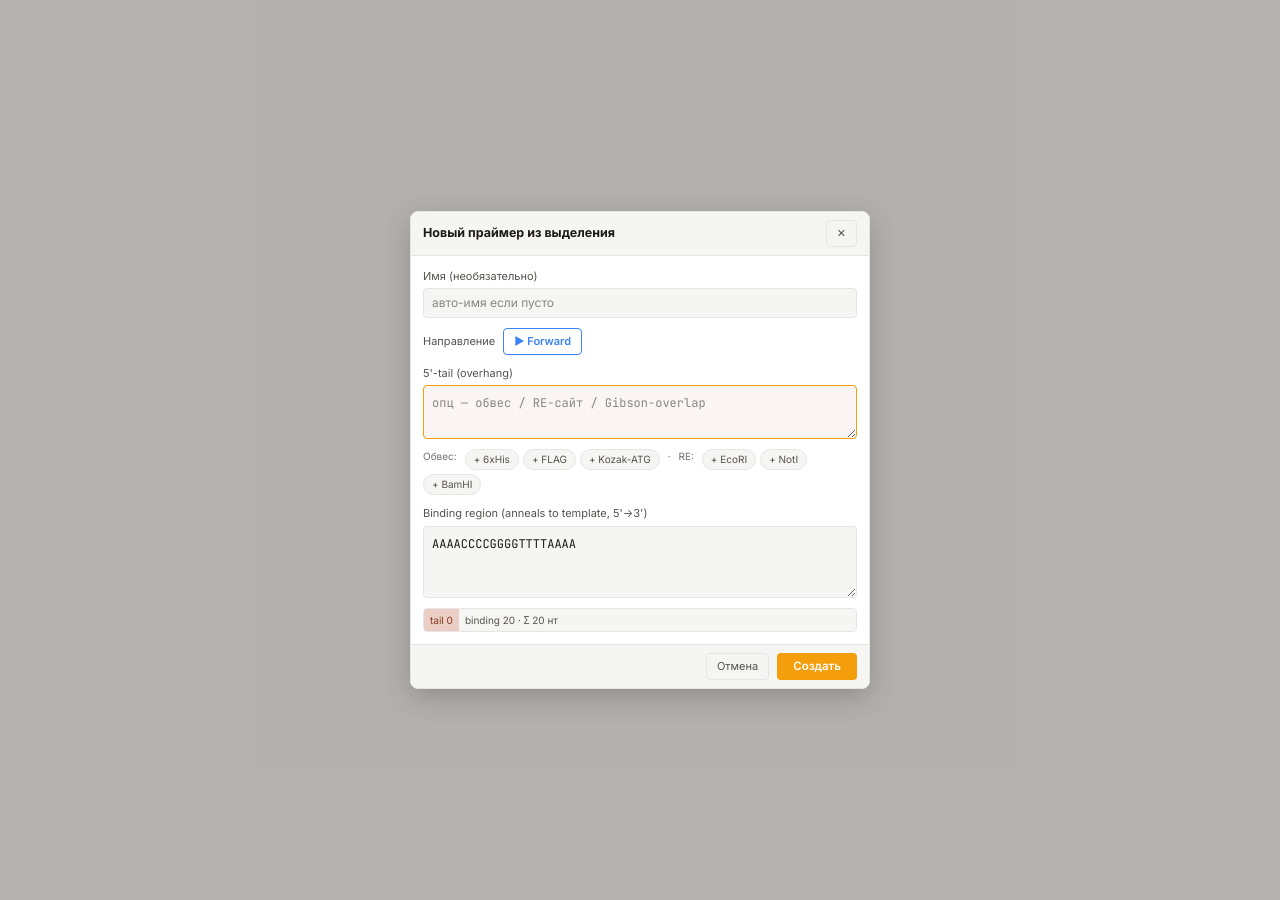
Test case: K13 — tail field + helpers › typing a tail updates the binding/tail split preview length
The image size is (1280, 900).
Step 1. Type "GGGCCC" into the text box with test id "primer-modal-tail" → x=640, y=412, box [423, 385, 857, 439]
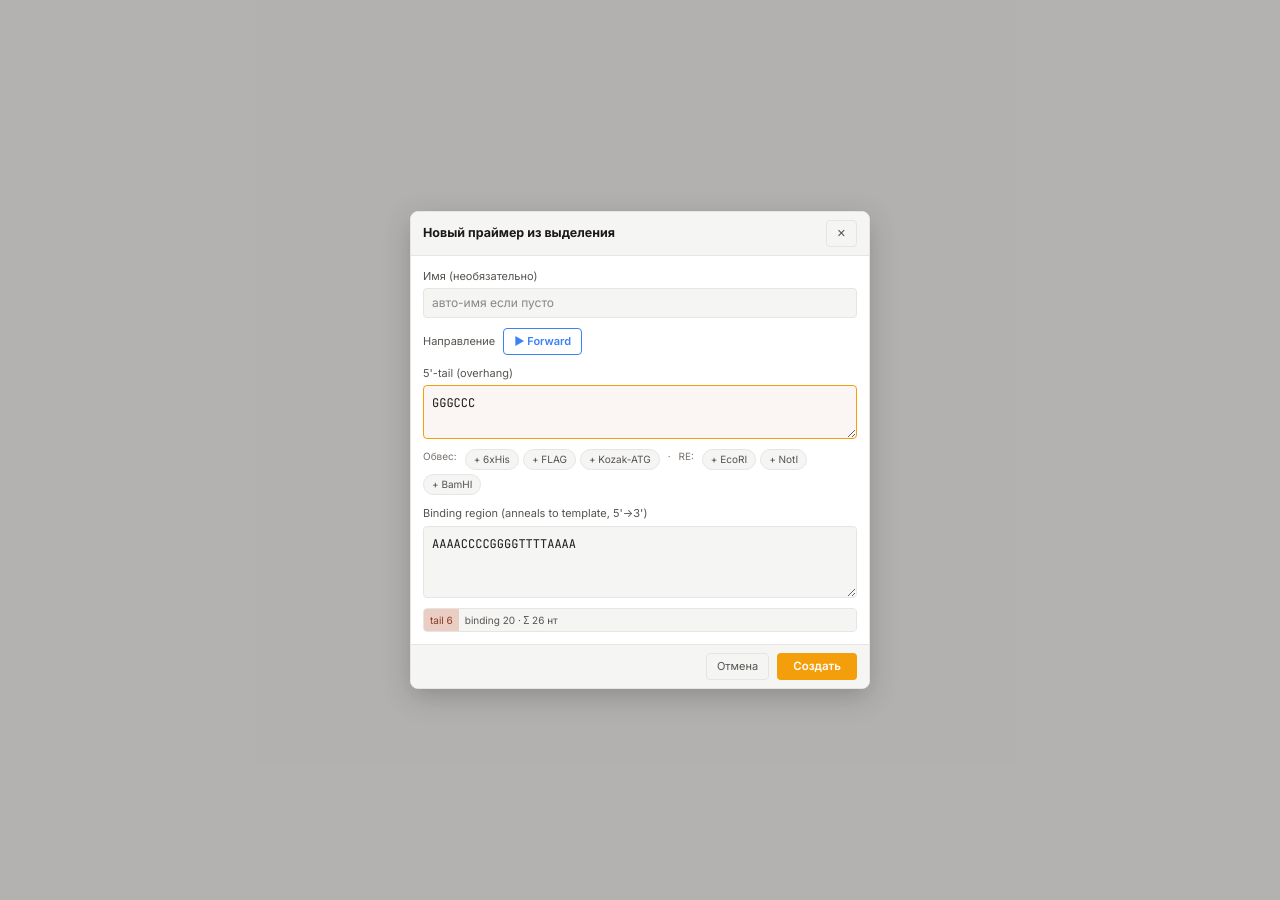
Expected: the element with test id "primer-modal-tail-binding-viz" shows "binding 20", [423, 608, 857, 632]
Result: the element with test id "primer-modal-tail-binding-viz" shows "tail 6" at [423, 608, 857, 632]
